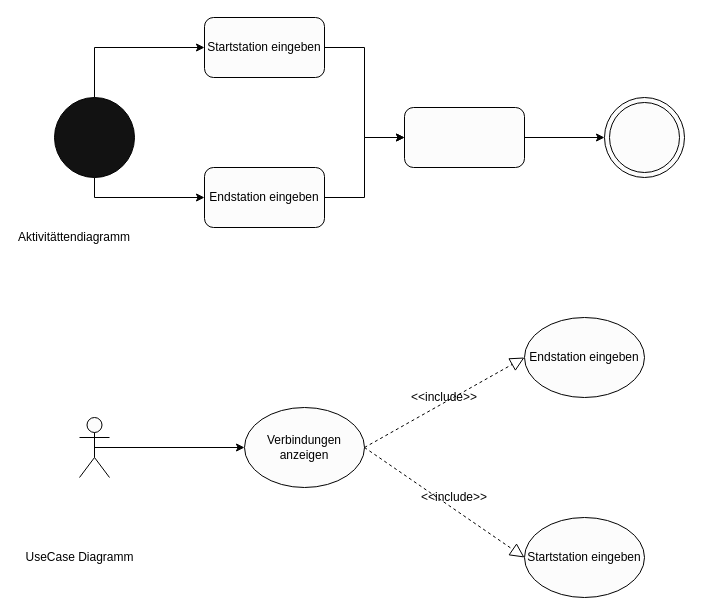
This 702x615 diagram has some shape labels left out. Each missing label, with the centre of its shape:
Actor: [94,447]
Verbindung anzeigen: [464,137]
